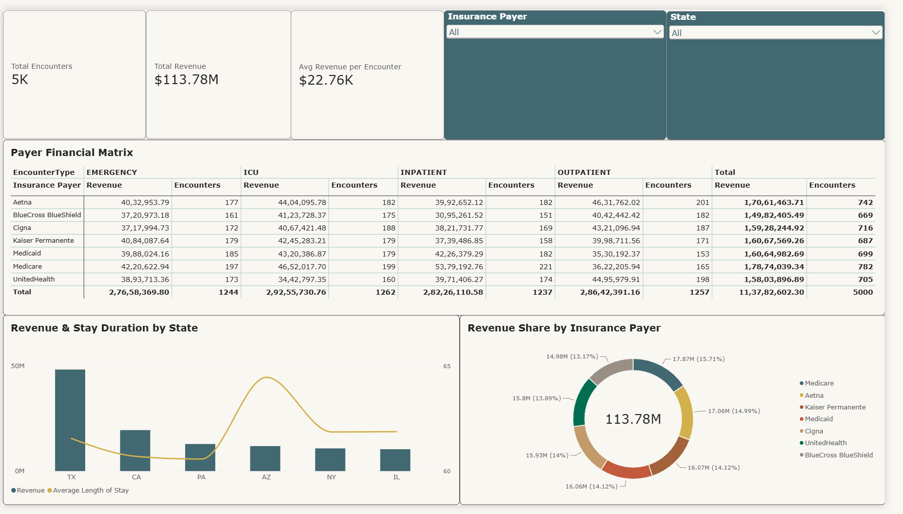

Layout of this report page (visuals, bound fields, positions):
{"tool":"powerbi","page":{"name":"Financial & Payer Performance","canvas":[1920,1080],"ordinal":2},"visuals":[{"type":"cardVisual","fields":{"Data":["gold vw_Fact_PatientEncounters.Total Encounters"]},"box":[0,1.7,311.1,279.8],"z":0},{"type":"cardVisual","fields":{"Data":["gold vw_Fact_PatientEncounters.Total Revenue"]},"box":[311.1,1.7,316.3,279.8],"z":1000},{"type":"cardVisual","fields":{"Data":["gold vw_Fact_PatientEncounters.Avg Revenue per Encounter"]},"box":[627.5,1.7,333.7,281.6],"z":2000},{"type":"donutChart","title":"Revenue Share by Insurance Payer","fields":{"Category":["gold vw_exec_revenue_by_payer.PrimaryInsurancePayer"],"Y":["Sum(gold vw_exec_revenue_by_payer.TotalRevenue)"]},"box":[994.2,665.7,926.4,413.7],"z":3000},{"type":"lineStackedColumnComboChart","title":"Revenue & Stay Duration by State","fields":{"Category":["gold vw_exec_revenue_by_payer.State"],"Y":["Sum(gold vw_exec_revenue_by_payer.TotalRevenue)"],"Y2":["Avg(gold vw_exec_revenue_by_payer.AvgLOS)"]},"box":[0,665.7,994.2,413.7],"z":4000},{"type":"pivotTable","title":"Payer Financial Matrix","fields":{"Columns":["gold vw_exec_revenue_by_payer.EncounterType"],"Rows":["gold vw_exec_revenue_by_payer.PrimaryInsurancePayer"],"Values":["Sum(gold vw_exec_revenue_by_payer.TotalRevenue)","Sum(gold vw_exec_revenue_by_payer.TotalEncounters)"]},"box":[0,283.3,1920.6,382.4],"z":4001},{"type":"slicer","fields":{"Values":["gold vw_exec_revenue_by_payer.PrimaryInsurancePayer"]},"box":[959.4,1.7,484.9,281.6],"z":4002},{"type":"slicer","fields":{"Values":["gold vw_exec_revenue_by_payer.State"]},"box":[1444.4,3.5,476.2,279.8],"z":4003}]}

Visuals, with their boxes in screenshot pixels (x1, y1, x2, y2), scaled from the page's 1920x1080 canvas onto the 903x514 screenshot:
cardVisual - gold vw_Fact_PatientEncounters.Total Encounters: bbox=[0, 1, 146, 134]
cardVisual - gold vw_Fact_PatientEncounters.Total Revenue: bbox=[146, 1, 295, 134]
cardVisual - gold vw_Fact_PatientEncounters.Avg Revenue per Encounter: bbox=[295, 1, 452, 135]
"Revenue Share by Insurance Payer" donutChart: bbox=[468, 317, 902, 513]
"Revenue & Stay Duration by State" lineStackedColumnComboChart: bbox=[0, 317, 468, 513]
"Payer Financial Matrix" pivotTable: bbox=[0, 135, 902, 317]
slicer - gold vw_exec_revenue_by_payer.PrimaryInsurancePayer: bbox=[451, 1, 679, 135]
slicer - gold vw_exec_revenue_by_payer.State: bbox=[679, 2, 902, 135]
